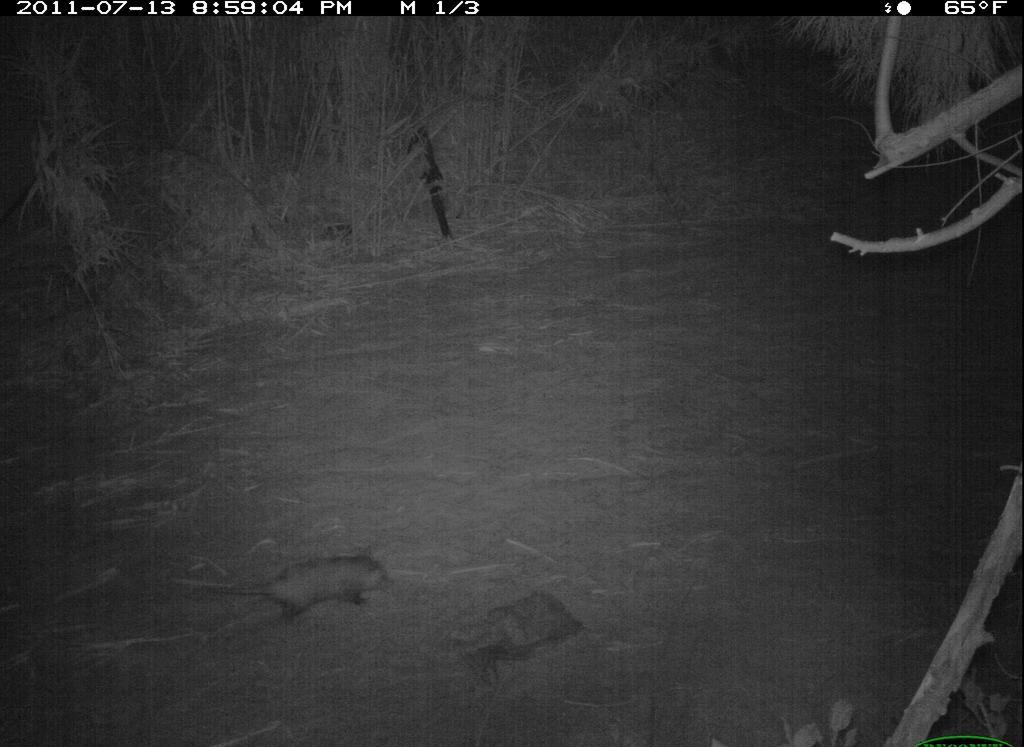opossum: (173, 550, 401, 629)
